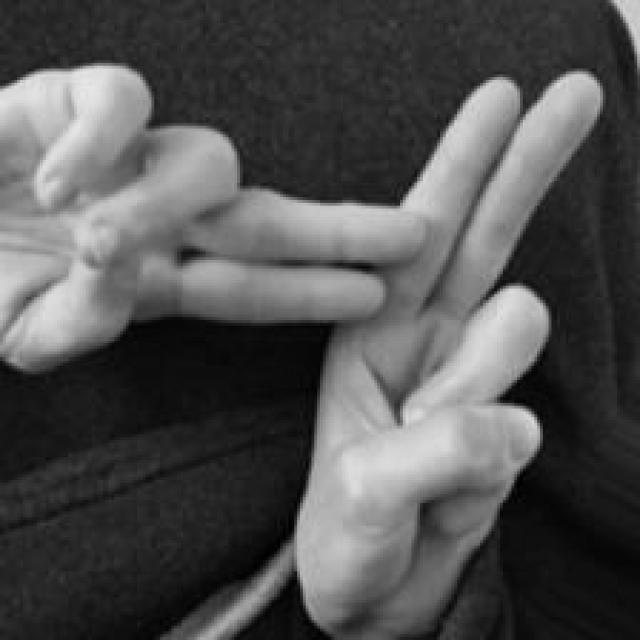K: (1, 54, 607, 634)
